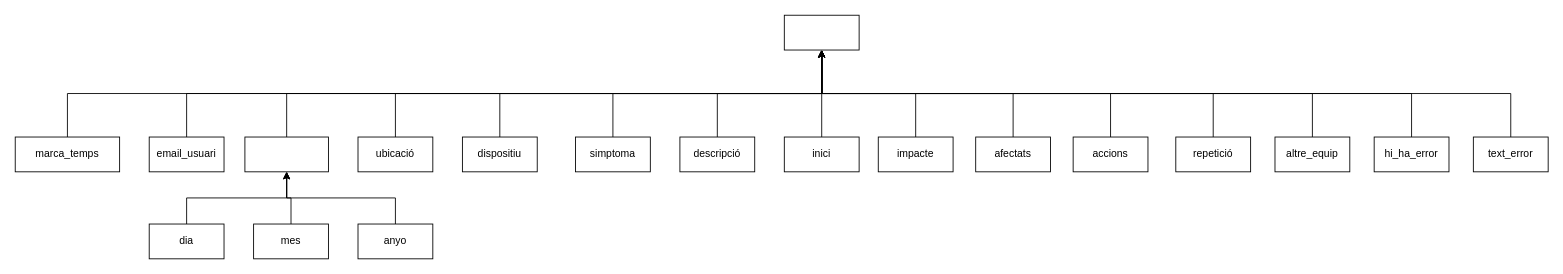
Image size: 1563x274. Some labels were removed from this diagram. Each missing label, with the centre of its shape:
data_incidencies: the point at 286,154
incidencia: the point at 821,32
